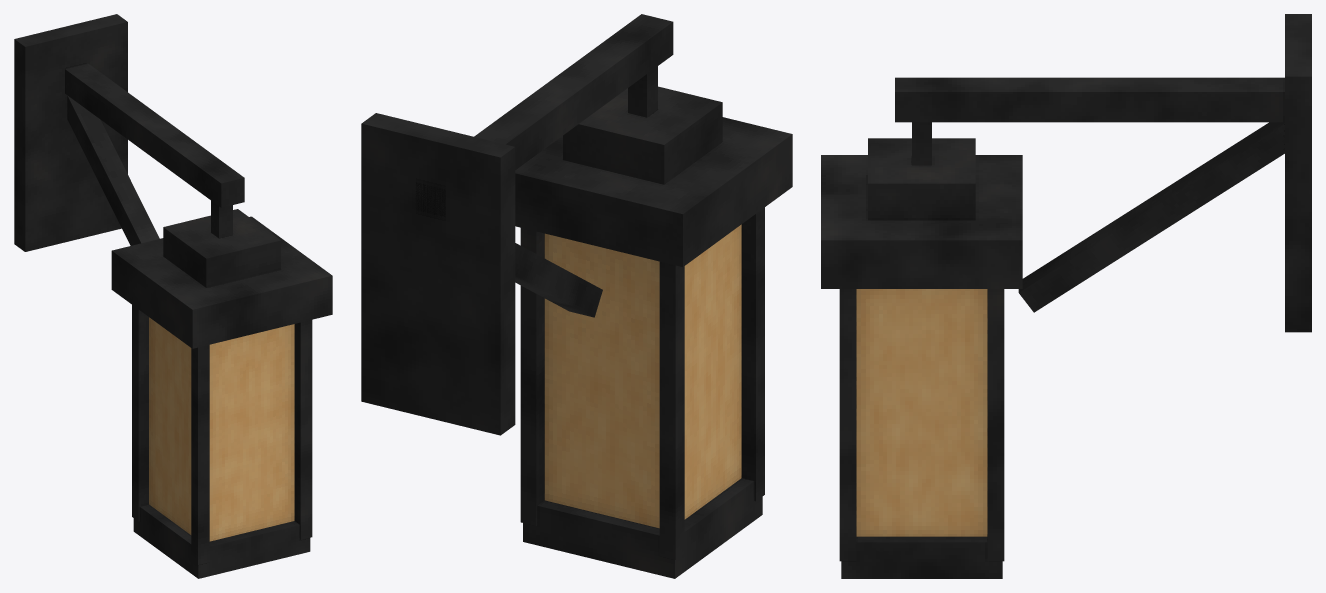
Rendered from siracusa_lantern.glb.
The picture shows the model from 3 angles, left to right: view 1: azimuth 30°, elevation 25°; view 2: azimuth 150°, elevation 25°; view 3: azimuth 270°, elevation 25°; orthographic projection. The views are drawn at different scales.
Parts seen in each view (by area): view 1: siracusa_lantern; view 2: siracusa_lantern; view 3: siracusa_lantern.
Boxes of the visible parts, x1,y1,x2,y2 form: siracusa_lantern: [14, 14, 332, 578]; siracusa_lantern: [361, 14, 792, 578]; siracusa_lantern: [821, 14, 1311, 578].
Size of the model in its own units: 0.3 by 0.82 by 0.73.
Materials: 2 (2 with a texture image).
